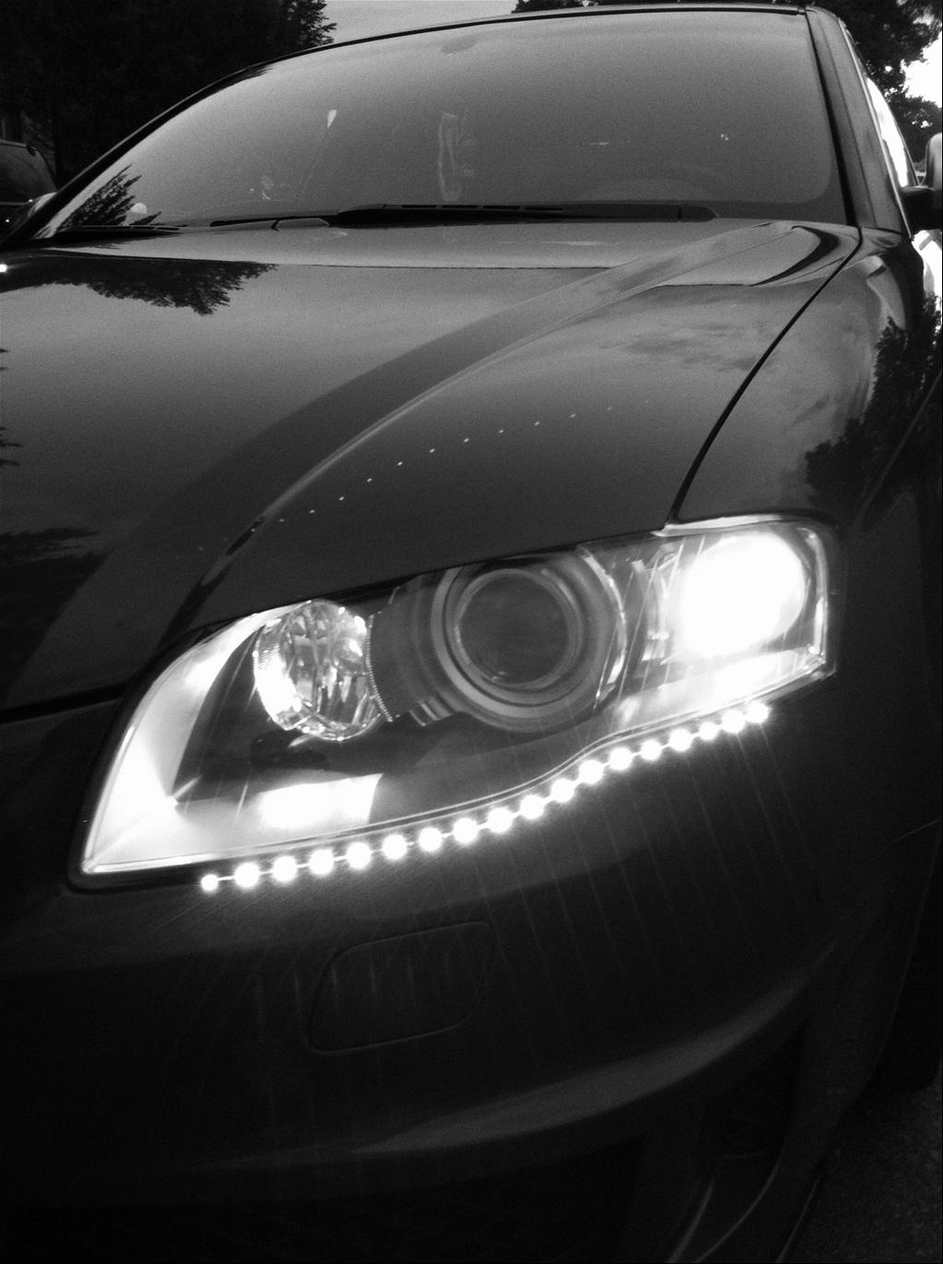car: (1, 1, 938, 1262)
